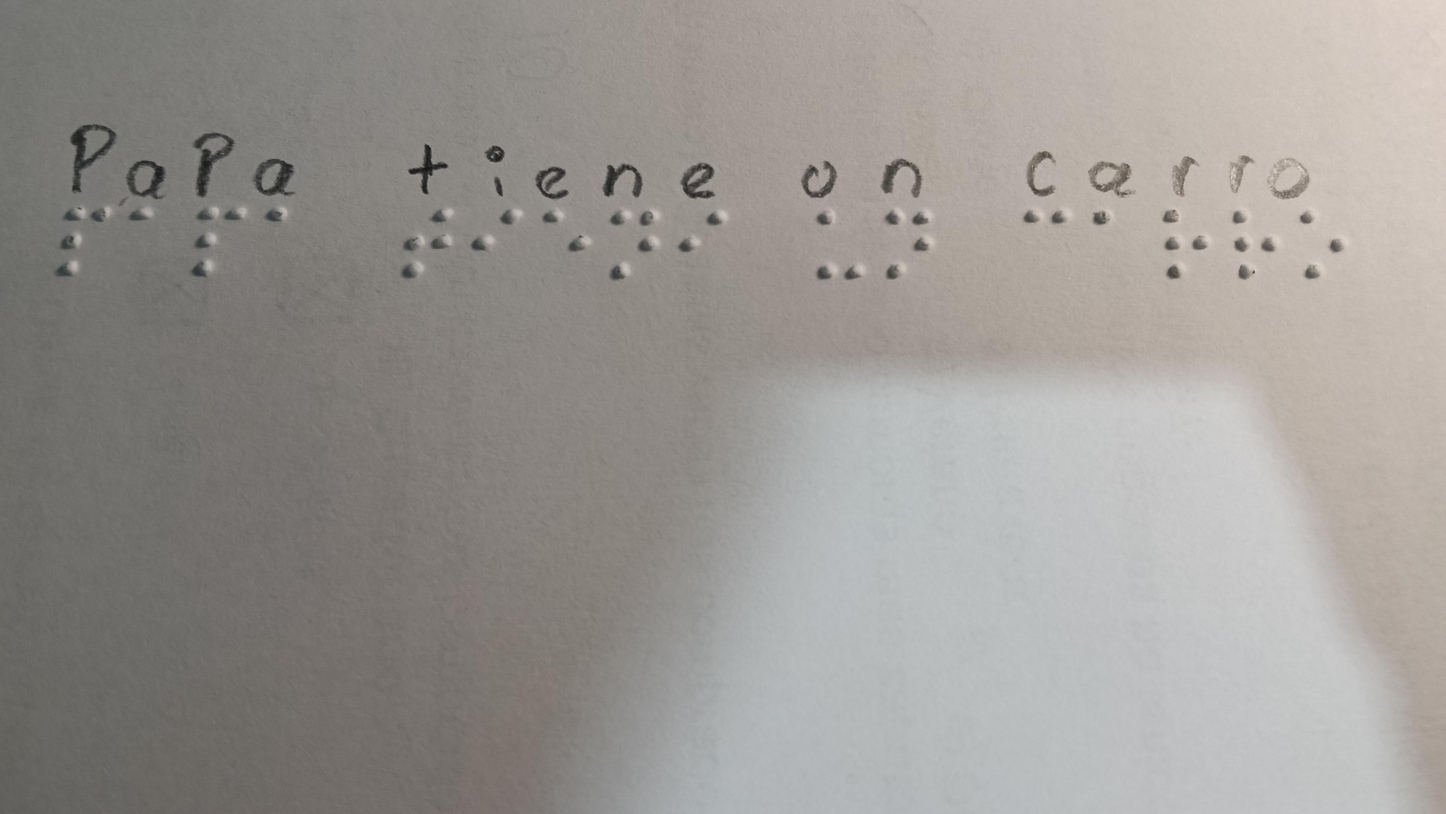a: (250, 193, 303, 239), (1079, 193, 1125, 246), (119, 199, 163, 241)
c: (1014, 200, 1083, 248)
e: (666, 202, 739, 277), (528, 200, 602, 266)
i: (473, 197, 523, 269)
n: (875, 204, 943, 291), (606, 200, 665, 287)
o: (1290, 209, 1350, 291)
p: (53, 197, 113, 282), (190, 199, 248, 282)
r: (1212, 202, 1290, 289), (1143, 197, 1216, 282)
t: (386, 195, 464, 284)
u: (794, 207, 865, 287)
